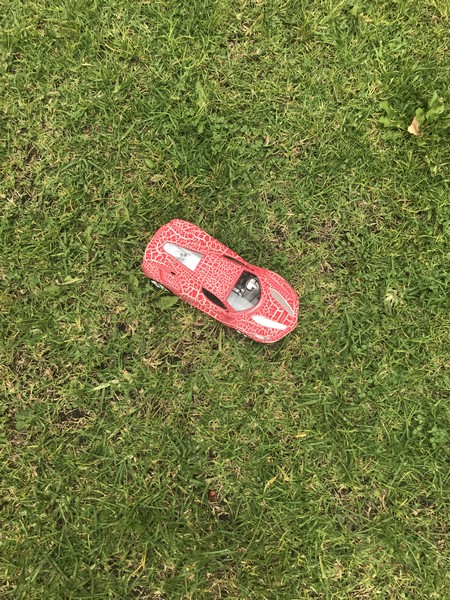RC: (141, 218, 301, 345)
